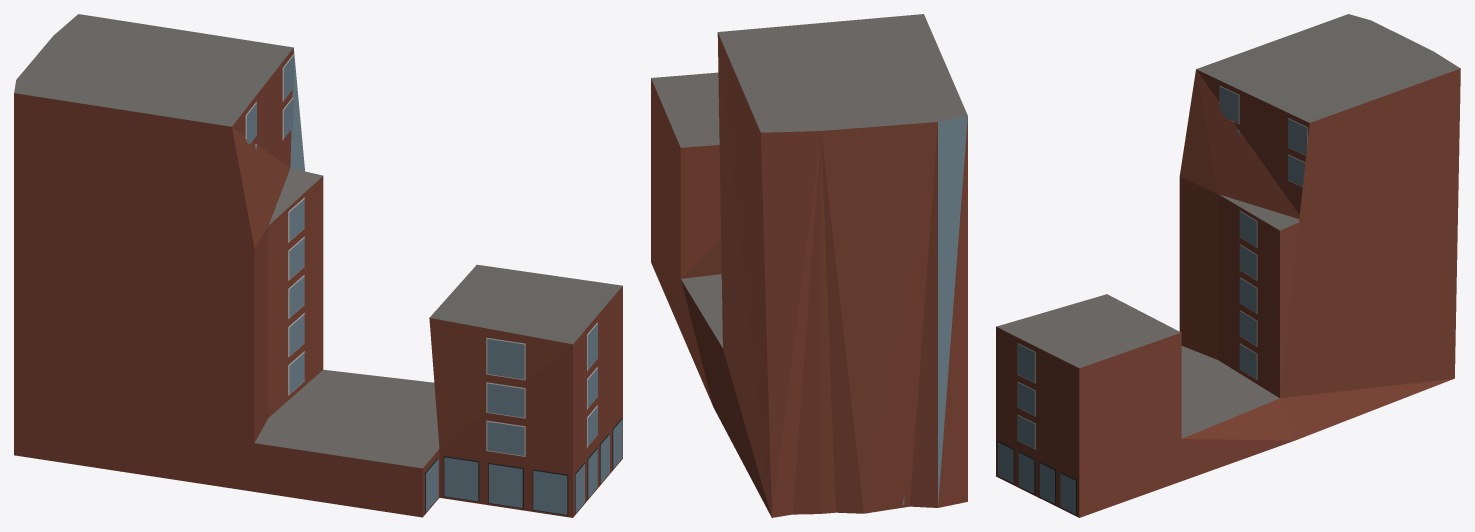
File: haparandaweg-788-868.lod2.glb
The picture shows the model from 3 angles, left to right: view 1: azimuth 30°, elevation 25°; view 2: azimuth 150°, elevation 25°; view 3: azimuth 270°, elevation 25°; orthographic projection. The views are drawn at different scales.
Visible parts, largest first — view 1: lod2; view 2: lod2; view 3: lod2.
Part boxes in pixels (x1,y1,x2,y2): lod2: (14, 14, 622, 517); lod2: (651, 14, 967, 517); lod2: (996, 14, 1460, 517).
Size of the model in its own units: 37.21 by 28.43 by 38.25.
